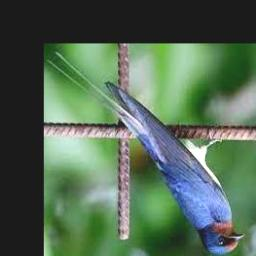Swallow: (47, 52, 244, 254)
